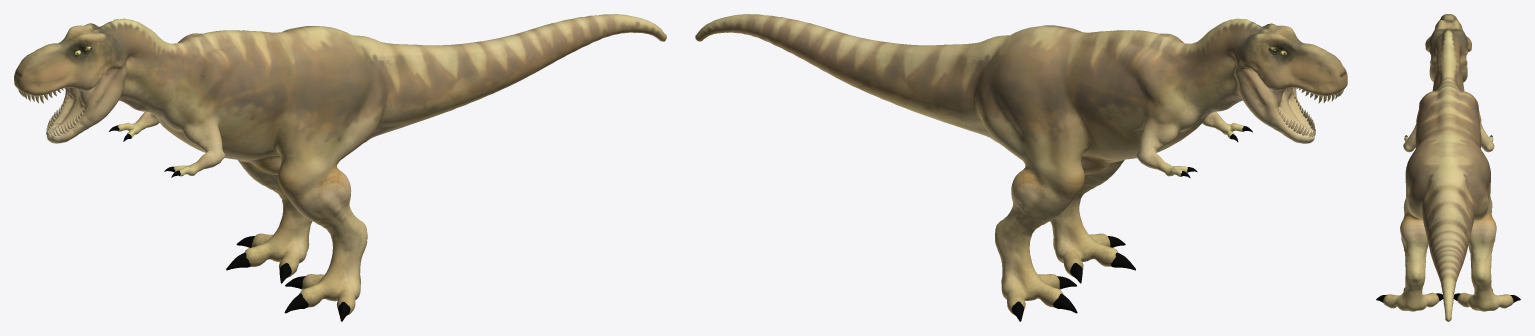
The picture shows the model from 3 angles, left to right: view 1: azimuth 30°, elevation 25°; view 2: azimuth 150°, elevation 25°; view 3: azimuth 270°, elevation 25°; orthographic projection. The views are drawn at different scales.
Visible parts, largest first — view 1: META.4, UNAS.2, DIENTS.5; view 2: META.4, UNAS.2, DIENTS.5; view 3: META.4, UNAS.2.
Part boxes in pixels (x1=…): META.4: x1=14, y1=14, x2=666, y2=315; UNAS.2: x1=109, y1=125, x2=350, y2=321; DIENTS.5: x1=18, y1=87, x2=85, y2=137; META.4: x1=695, y1=14, x2=1347, y2=314; UNAS.2: x1=1011, y1=126, x2=1252, y2=321; DIENTS.5: x1=1276, y1=87, x2=1343, y2=136; META.4: x1=1383, y1=14, x2=1513, y2=321; UNAS.2: x1=1376, y1=135, x2=1520, y2=302.
Bounding box in the file's own units: 54.69 × 24.87 × 15.35.
5 materials, 4 textured.
